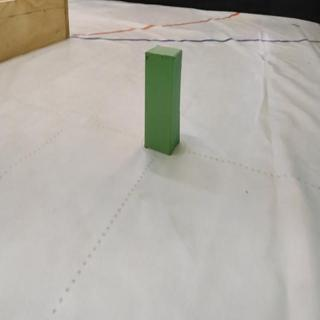greenbox: (143, 45, 184, 156)
